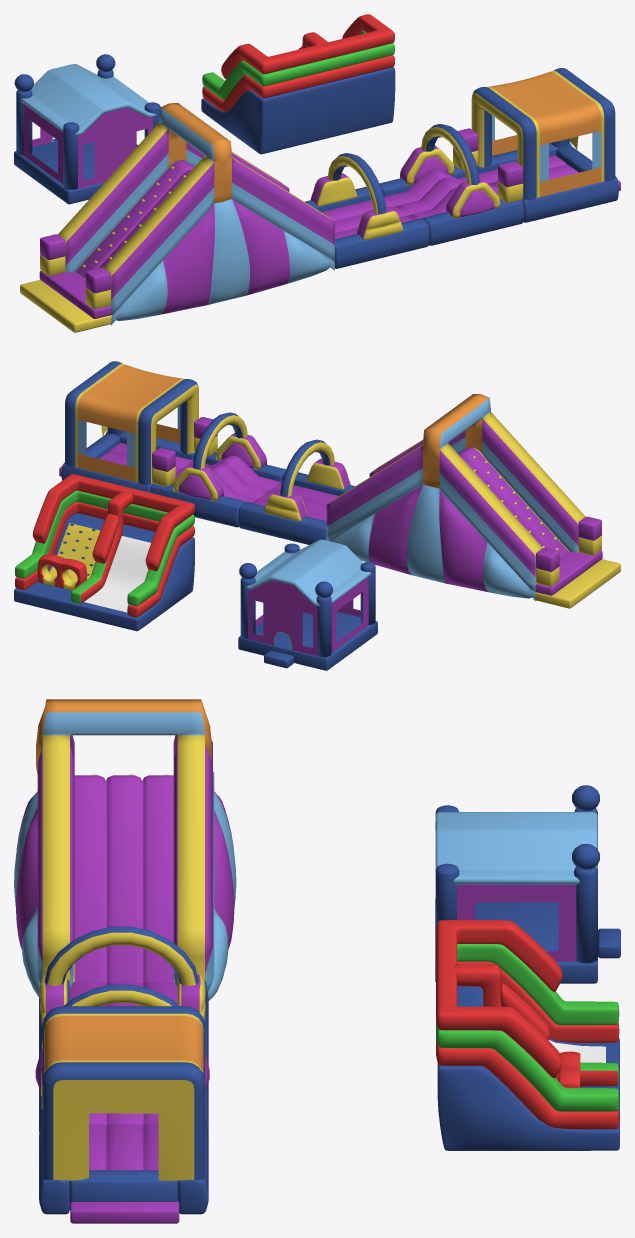
The model's file is BounceHouse.fbx.
3 renders of one model, top to bottom at view 1: azimuth 30°, elevation 25°; view 2: azimuth 150°, elevation 25°; view 3: azimuth 270°, elevation 25°, orthographic. The views are drawn at different scales.
Visible parts, largest first — view 1: Cube.1006_Cube.1412, Cube.1027_Cube.1437, Cube.1070_Cube.1525; view 2: Cube.1006_Cube.1412, Cube.1027_Cube.1437, Cube.1070_Cube.1525; view 3: Cube.1006_Cube.1412, Cube.1027_Cube.1437, Cube.1070_Cube.1525.
Part boxes in pixels (bbox=[...]): Cube.1006_Cube.1412: bbox=[20, 68, 620, 332]; Cube.1027_Cube.1437: bbox=[201, 14, 395, 154]; Cube.1070_Cube.1525: bbox=[14, 54, 160, 204]; Cube.1006_Cube.1412: bbox=[59, 361, 620, 608]; Cube.1027_Cube.1437: bbox=[14, 474, 194, 631]; Cube.1070_Cube.1525: bbox=[238, 539, 377, 670]; Cube.1006_Cube.1412: bbox=[14, 699, 236, 1223]; Cube.1027_Cube.1437: bbox=[436, 920, 619, 1150]; Cube.1070_Cube.1525: bbox=[435, 785, 620, 983].
Size of the model in its own units: 6135 by 1637 by 3930.
